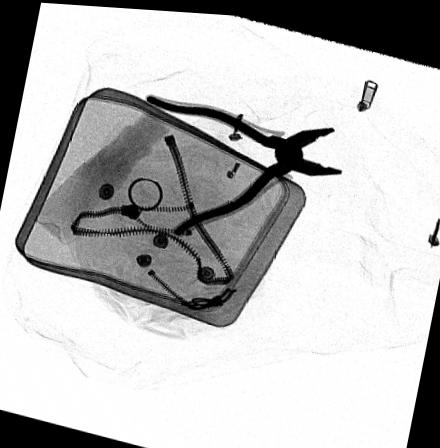Pliers: (142, 90, 342, 235)
